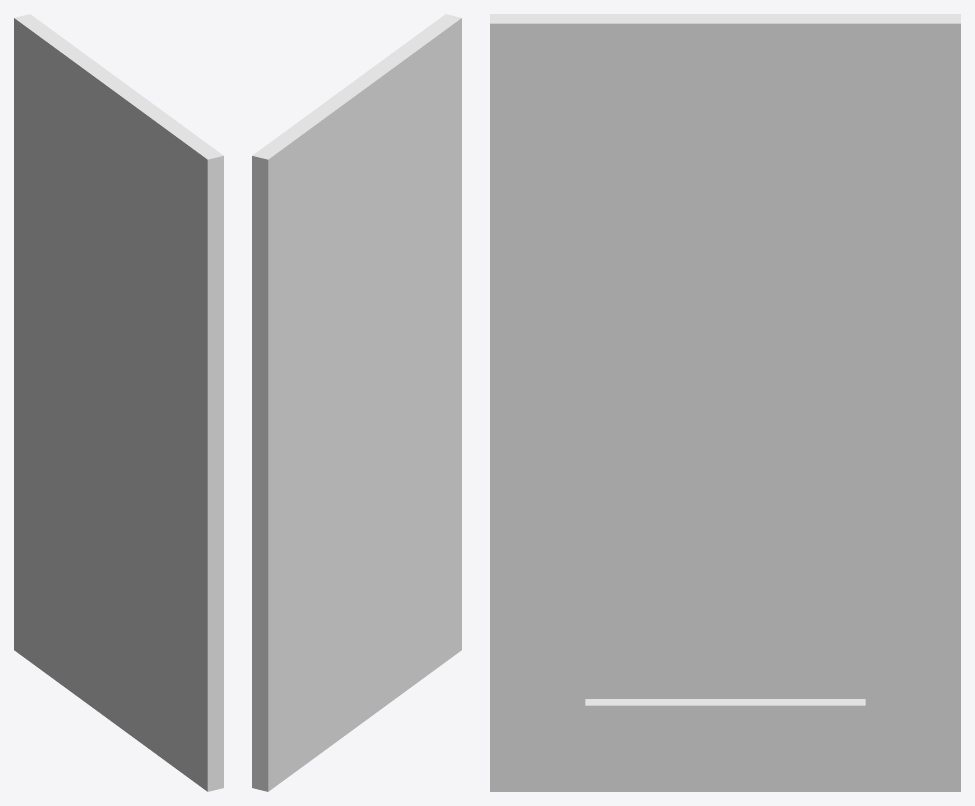
The model's file is front_top_keretes_40_l.glb.
3 views of the same model, side by side, from view 1: azimuth 30°, elevation 25°; view 2: azimuth 150°, elevation 25°; view 3: azimuth 270°, elevation 25° (orthographic). The views are drawn at different scales.
Parts seen in each view (by area): view 1: front_top_keretes_40_L; view 2: front_top_keretes_40_L; view 3: front_top_keretes_40_L.
Part boxes in pixels (x1,y1,x2,y2): front_top_keretes_40_L: (14, 14, 223, 791); front_top_keretes_40_L: (252, 14, 461, 791); front_top_keretes_40_L: (490, 14, 960, 791).
Size of the model in its own units: 0.019 by 0.711 by 0.3948.
1 material, 1 textured.
